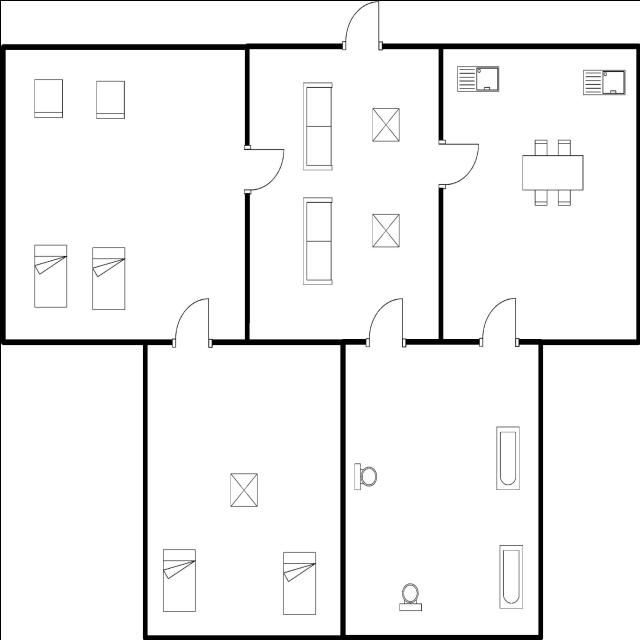bed: (28, 239, 70, 313), (278, 548, 320, 620), (87, 240, 128, 312), (159, 544, 197, 614)
coffee_table: (226, 466, 260, 512), (368, 100, 402, 142), (369, 208, 402, 250)
dining_table: (517, 134, 587, 210)
large_sink: (395, 577, 424, 615), (350, 459, 380, 494)
large_sofa: (296, 76, 336, 172), (298, 193, 334, 289)
sink: (452, 62, 503, 96), (580, 62, 628, 98)
small_sofa: (30, 73, 66, 122), (91, 74, 127, 122)
tub: (495, 540, 526, 612), (492, 422, 522, 494)
